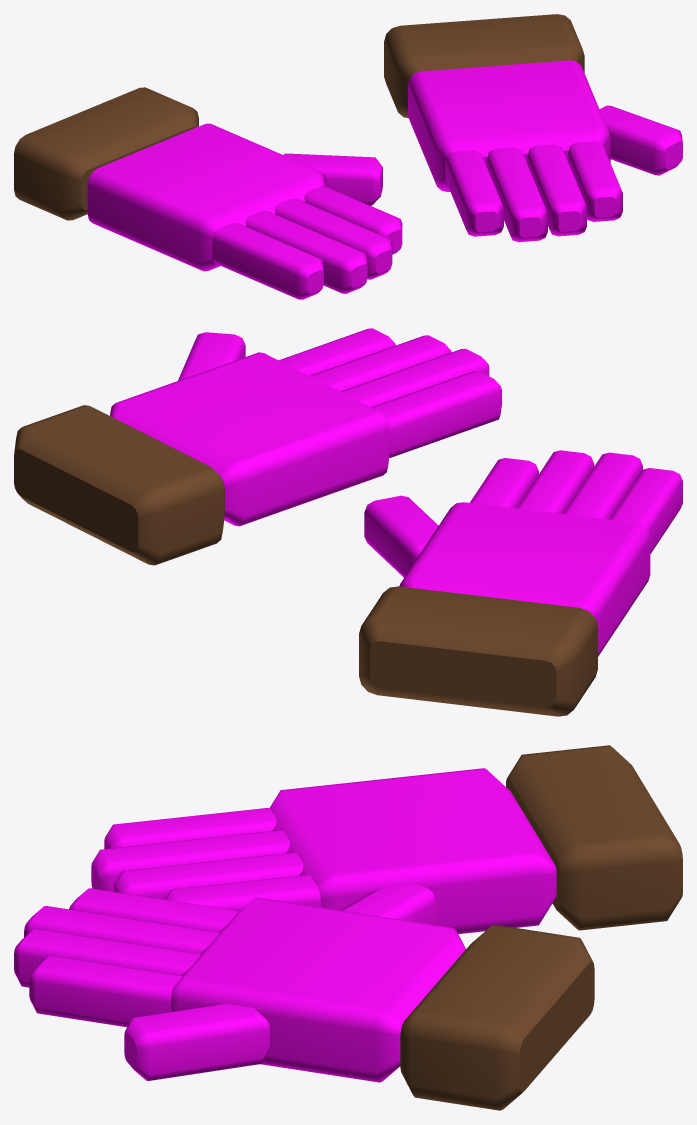
Rendered from objet_gants.glb.
The picture shows the model from 3 angles, top to bottom: view 1: azimuth 30°, elevation 25°; view 2: azimuth 150°, elevation 25°; view 3: azimuth 270°, elevation 25°; orthographic projection. The views are drawn at different scales.
Visible parts, largest first — view 1: gants_teinte.002, gants_sac_cuir.002; view 2: gants_teinte.002, gants_sac_cuir.002; view 3: gants_teinte.002, gants_sac_cuir.002.
Boxes of the visible parts, x1=… form: gants_teinte.002: x1=87, y1=60, x2=682, y2=299; gants_sac_cuir.002: x1=14, y1=14, x2=584, y2=220; gants_teinte.002: x1=110, y1=328, x2=682, y2=656; gants_sac_cuir.002: x1=14, y1=405, x2=597, y2=716; gants_teinte.002: x1=14, y1=768, x2=556, y2=1082; gants_sac_cuir.002: x1=400, y1=745, x2=682, y2=1110.
Bounding box in the file's own units: 0.2181 × 0.0385 × 0.1842.
